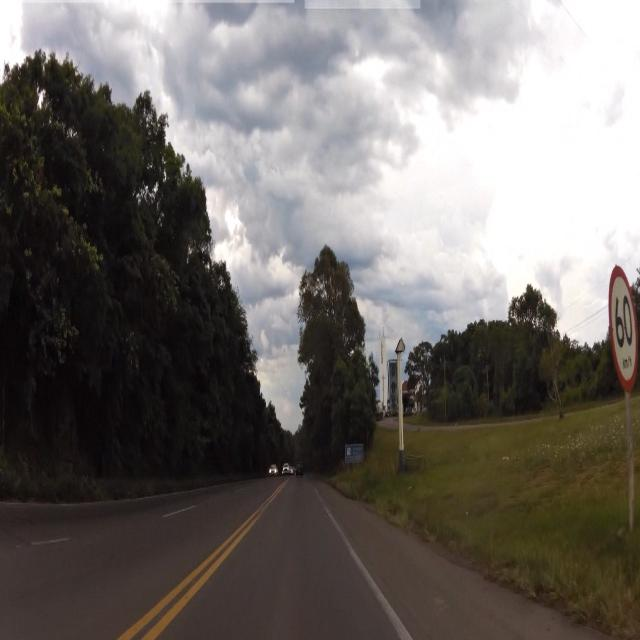R-19: (608, 263, 640, 389)
